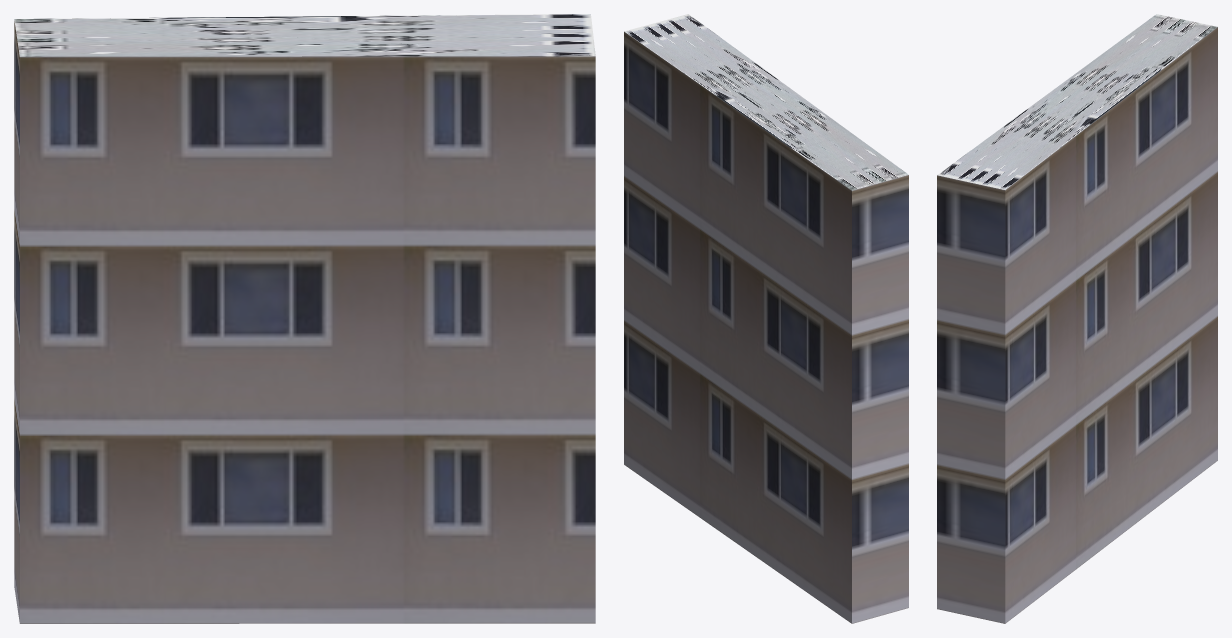
The model's file is ResTex__2548.fbx.
3 renders of one model, left to right at view 1: azimuth 30°, elevation 25°; view 2: azimuth 150°, elevation 25°; view 3: azimuth 270°, elevation 25°, orthographic. The views are drawn at different scales.
Visible parts, largest first — view 1: CityEngineMaterial_21_m, CityEngineMaterial_4_m; view 2: CityEngineMaterial_21_m, CityEngineMaterial_4_m; view 3: CityEngineMaterial_21_m, CityEngineMaterial_4_m.
Part boxes in pixels (box(x1,y1,x2,y2)): CityEngineMaterial_21_m: box(14, 21, 595, 623); CityEngineMaterial_4_m: box(14, 14, 595, 56); CityEngineMaterial_21_m: box(624, 31, 908, 623); CityEngineMaterial_4_m: box(624, 14, 908, 190); CityEngineMaterial_21_m: box(937, 27, 1217, 623); CityEngineMaterial_4_m: box(937, 14, 1217, 189).
Size of the model in its own units: 7.84 by 9 by 5.28.
2 materials, 2 textured.
